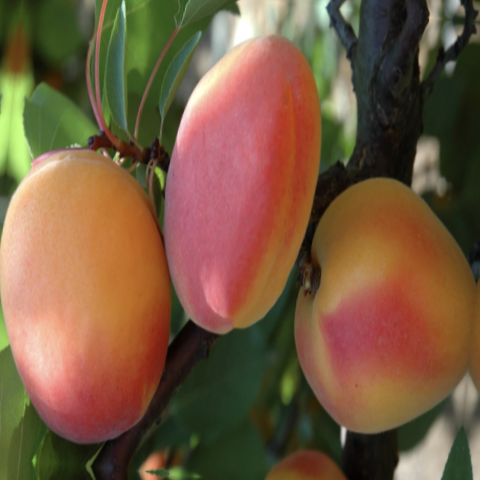mango: (263, 148, 480, 463), (135, 23, 343, 347), (0, 123, 192, 469)
